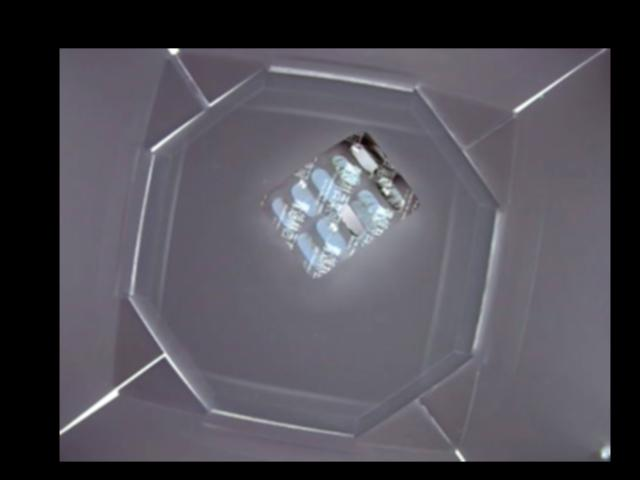Medicine: (259, 130, 416, 279)
